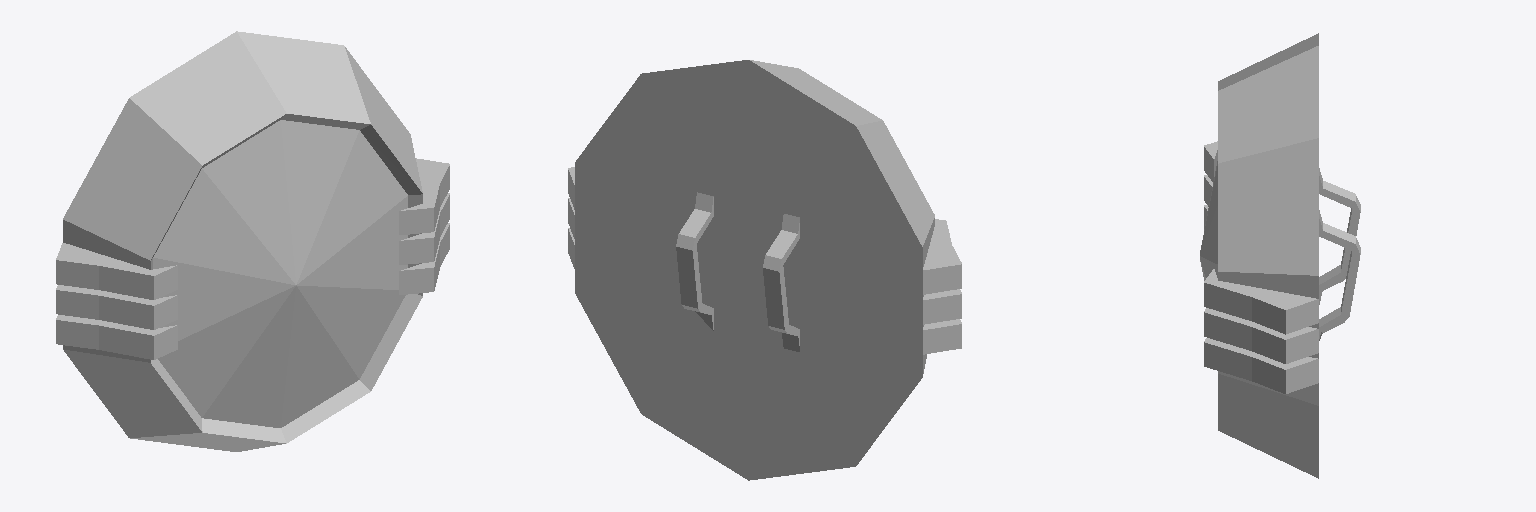
Rendered from Mirror Sheild.obj.
3 views of the same model, side by side, from view 1: azimuth 30°, elevation 25°; view 2: azimuth 150°, elevation 25°; view 3: azimuth 270°, elevation 25° (orthographic).
Visible parts, largest first — view 1: Mirror_Sheild_node-02C908D5.001_geom-02C908D5.001; view 2: Mirror_Sheild_node-02C908D5.001_geom-02C908D5.001; view 3: Mirror_Sheild_node-02C908D5.001_geom-02C908D5.001.
Boxes of the visible parts, x1,y1,x2,y2 form: Mirror_Sheild_node-02C908D5.001_geom-02C908D5.001: [56, 31, 449, 451]; Mirror_Sheild_node-02C908D5.001_geom-02C908D5.001: [568, 60, 961, 480]; Mirror_Sheild_node-02C908D5.001_geom-02C908D5.001: [1200, 33, 1360, 478].
Bounding box in the file's own units: 0.7466 × 0.7614 × 0.264.